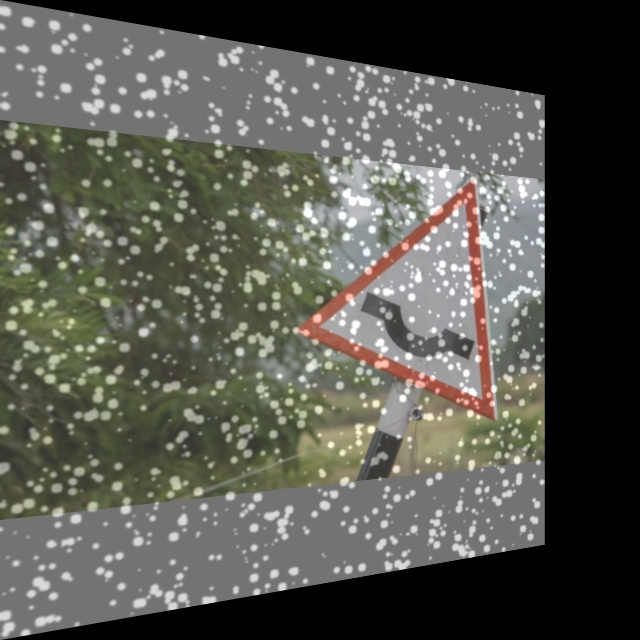Dangerous_Dip: (293, 163, 502, 421)
